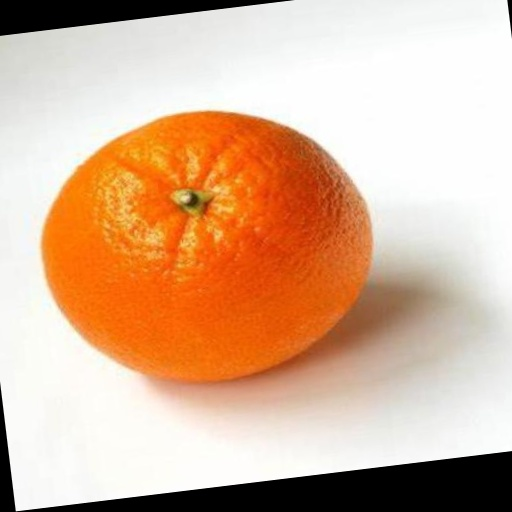fruit: (42, 112, 371, 381)
